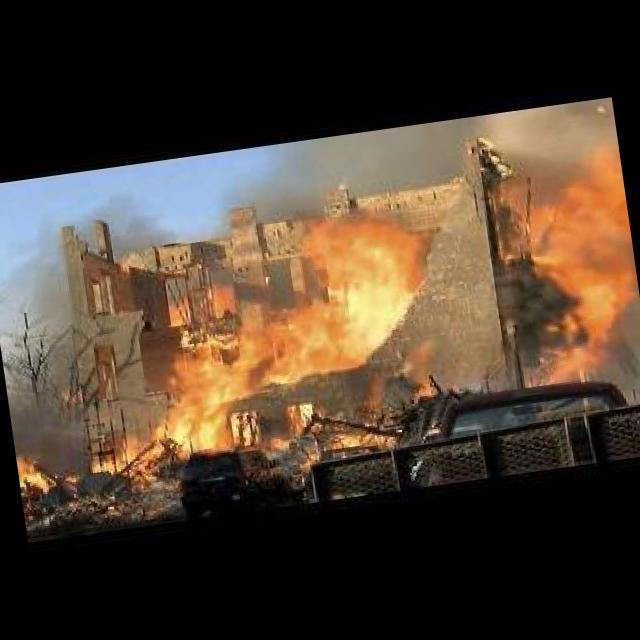Fire: (64, 160, 640, 470)
